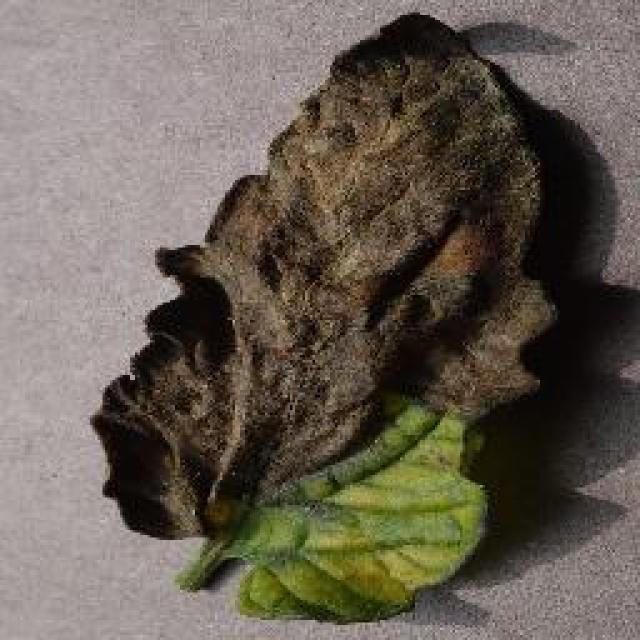Tomato_Late_Blight: (100, 4, 557, 538)
